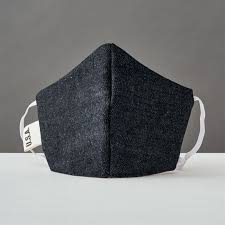cloth_mask: (19, 41, 208, 191)
